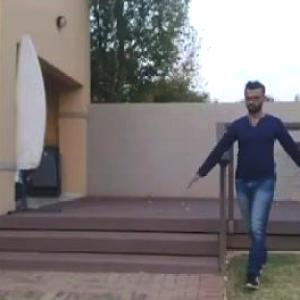land: (188, 81, 299, 293)
